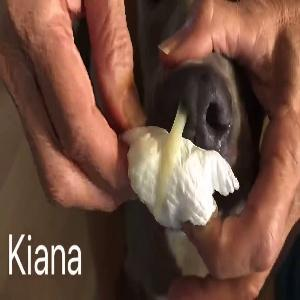nasal_discharge: (134, 100, 199, 202)
